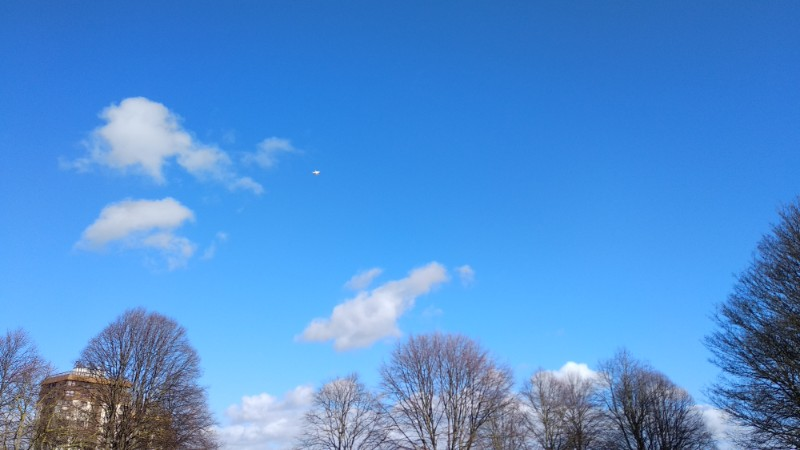drone: (310, 168, 319, 176)
